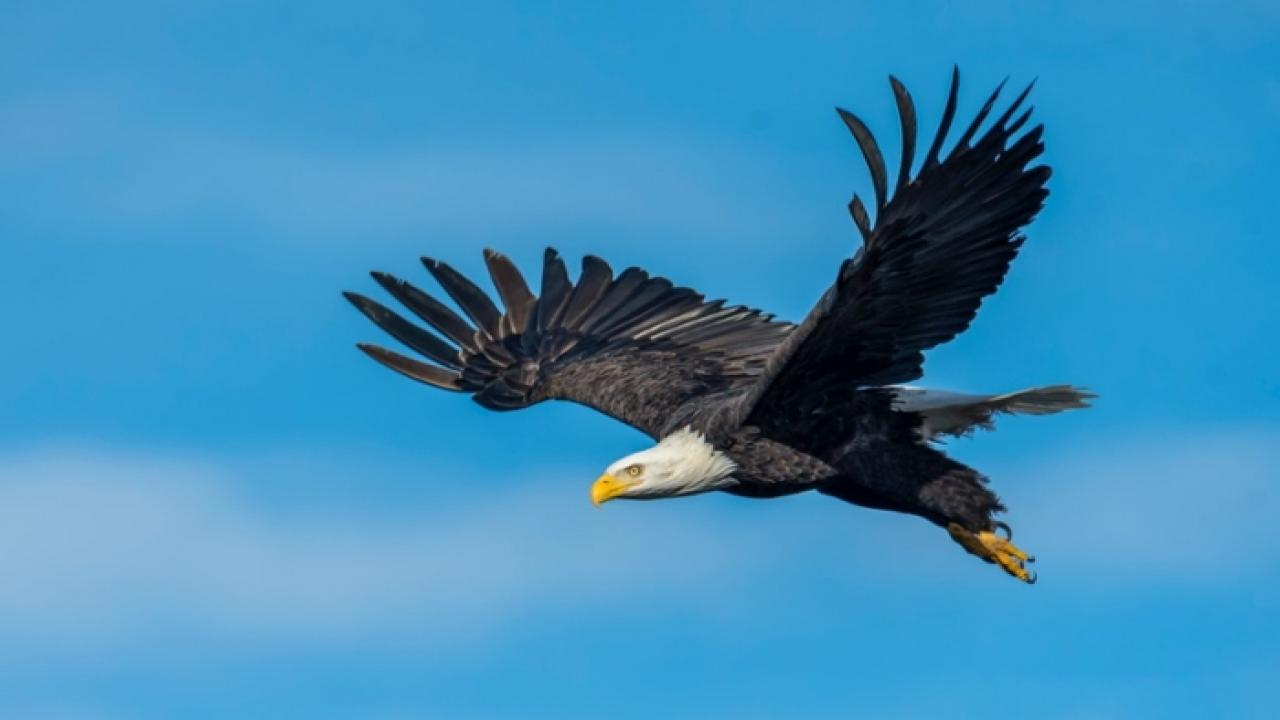Bird: (330, 59, 1116, 596)
